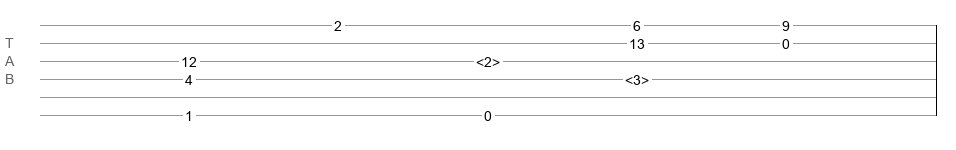0: (484, 108, 492, 118), (782, 36, 790, 46)
1: (185, 108, 193, 118)
12: (181, 54, 197, 64)
13: (629, 36, 645, 46)
2: (334, 18, 342, 28)
4: (185, 72, 193, 82)
6: (633, 18, 641, 28)
9: (782, 18, 790, 28)
harmonic: (476, 54, 500, 64), (625, 72, 649, 82)
